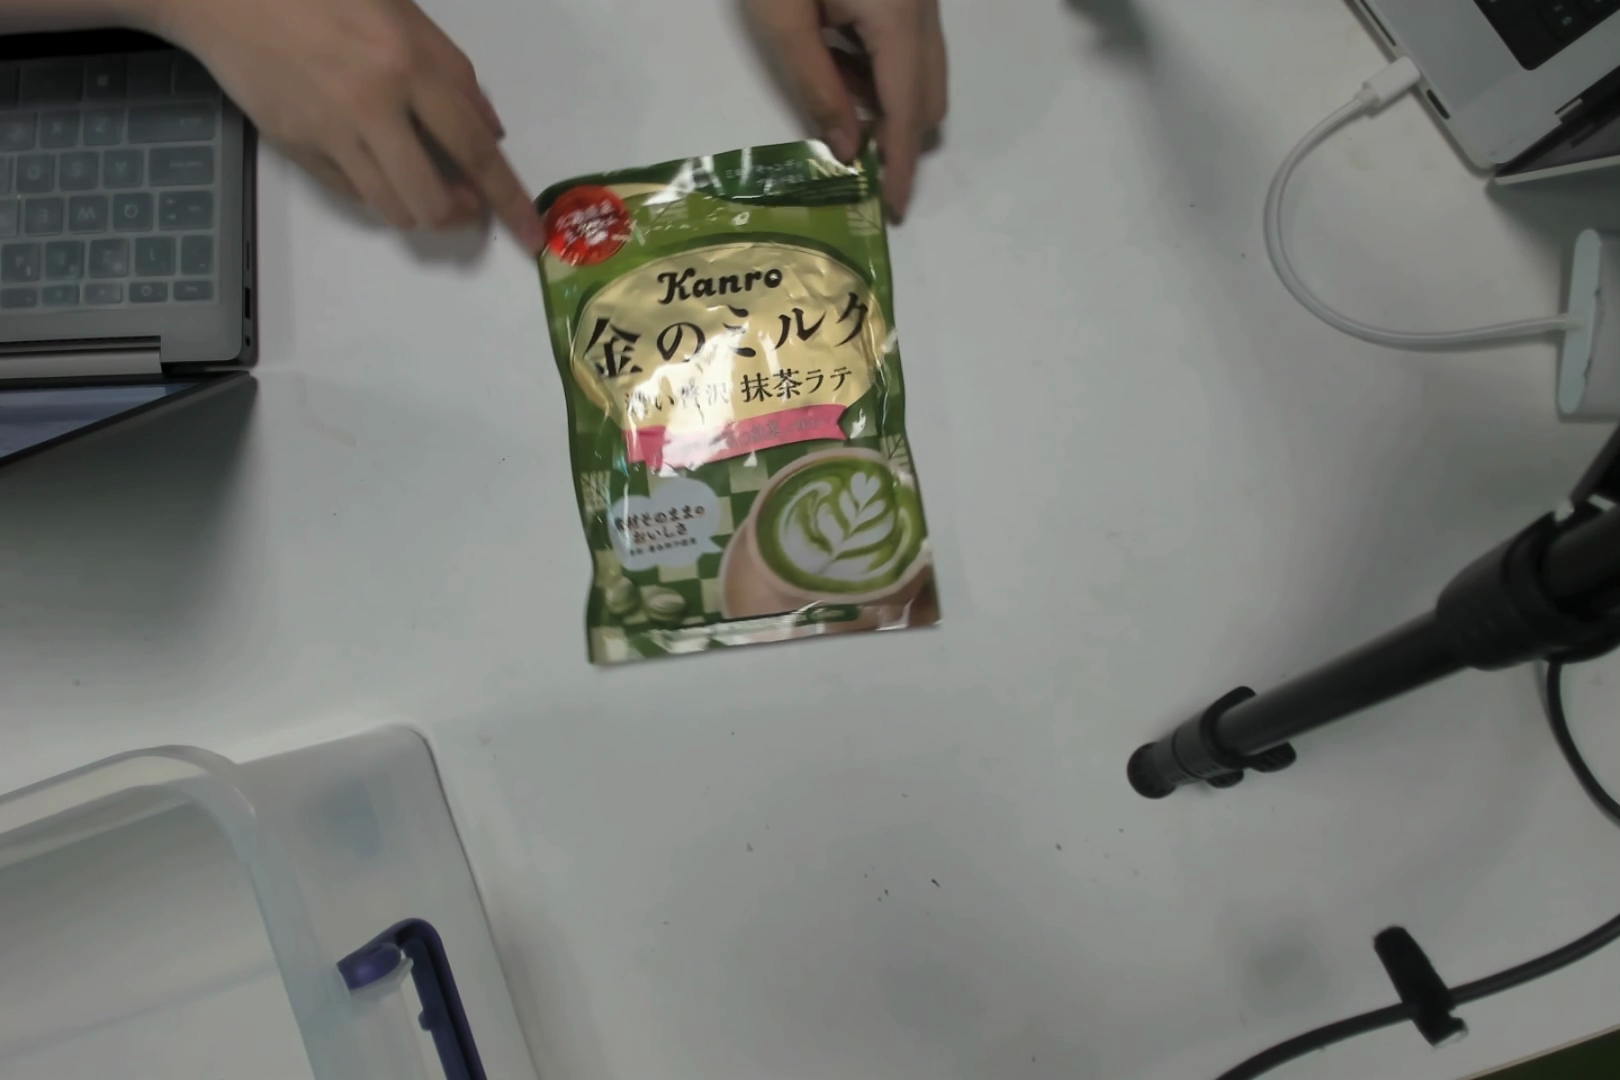SweetsChocolatesOthers_1-99g_NonHalal_NonHealthy: (570, 172, 943, 661)
